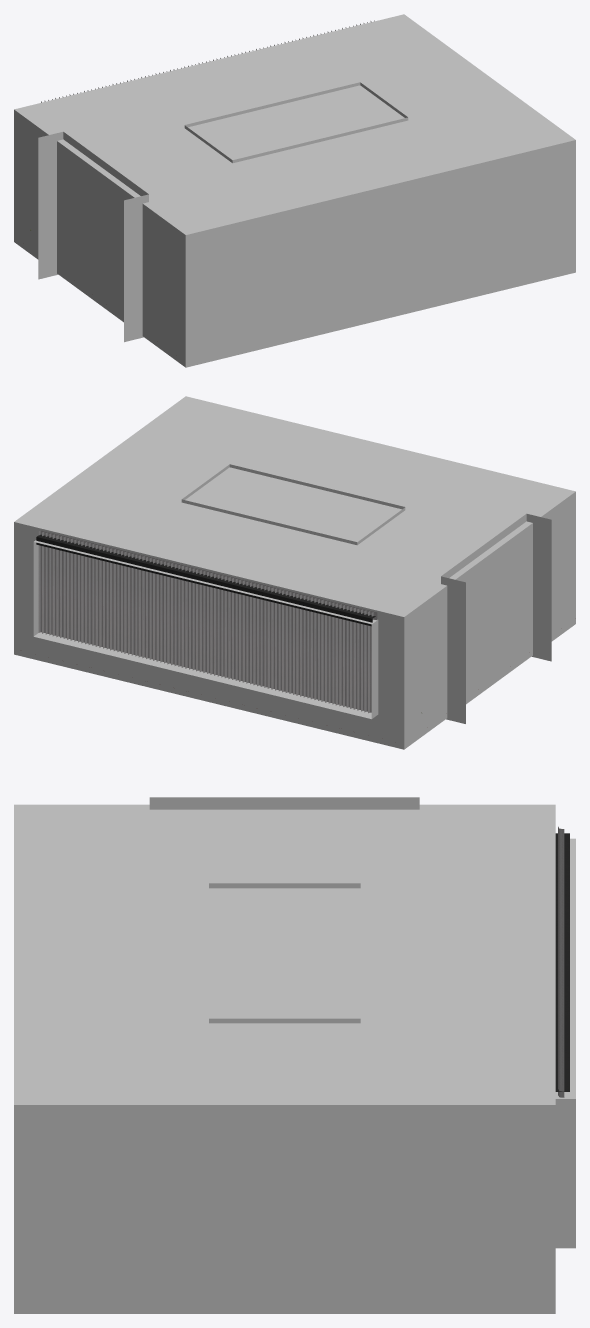
File: ConferenceRoom_01.fbx
3 renders of one model, top to bottom at view 1: azimuth 30°, elevation 25°; view 2: azimuth 150°, elevation 25°; view 3: azimuth 270°, elevation 25°, orthographic. The views are drawn at different scales.
Parts seen in each view (by area): view 1: ConferenceRoom_Walls, TV_Stand, lightHolder; view 2: ConferenceRoom_Walls, CF_Blinds, TV_Stand, lightHolder; view 3: ConferenceRoom_Walls, CF_Blinds, TV_Stand, lightHolder.
Part boxes in pixels (<box>): ConferenceRoom_Walls: <box>14,14,575,367</box>; TV_Stand: <box>38,131,148,342</box>; lightHolder: <box>184,82,408,163</box>; ConferenceRoom_Walls: <box>14,396,575,749</box>; CF_Blinds: <box>36,530,377,713</box>; TV_Stand: <box>441,513,551,723</box>; lightHolder: <box>181,464,405,545</box>; ConferenceRoom_Walls: <box>14,804,575,1313</box>; CF_Blinds: <box>555,826,569,1097</box>; TV_Stand: <box>149,797,419,809</box>; lightHolder: <box>209,883,360,1023</box>.
Size of the model in its own units: 19760 by 6552 by 14922.
